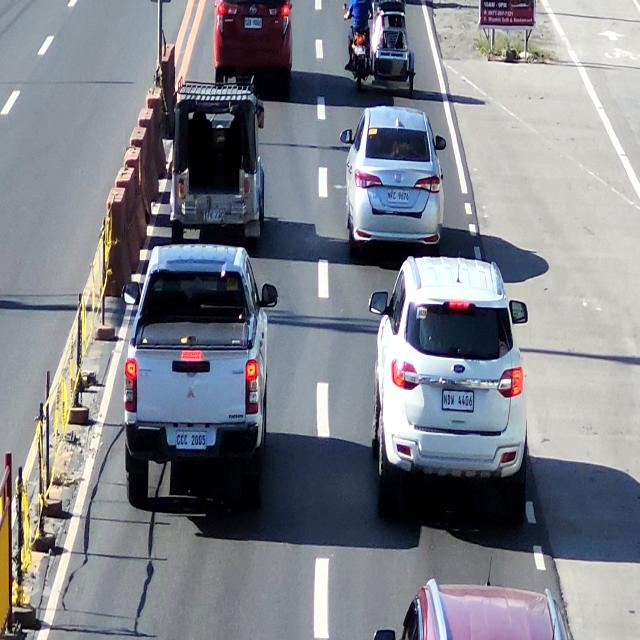Car: (364, 255, 531, 532), (125, 242, 268, 514), (359, 559, 576, 640), (341, 107, 449, 260), (208, 0, 294, 97)
Jeep: (170, 83, 270, 240)
License-Plate: (439, 388, 479, 416), (175, 427, 208, 456), (200, 203, 228, 227), (385, 184, 411, 205), (354, 44, 365, 56)
Tricycle: (348, 0, 415, 91)
